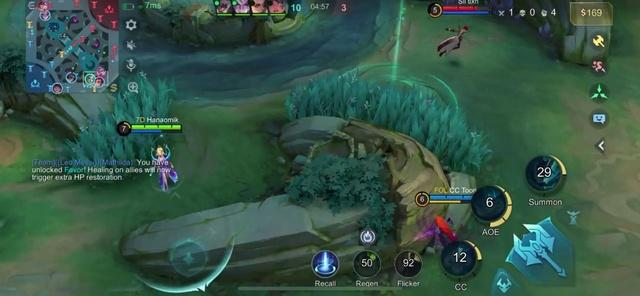Adc_Aliado: (94, 77, 106, 87)
Arbusto: (286, 69, 491, 171), (62, 71, 174, 161)
Energia: (428, 201, 476, 205)
Eudora: (153, 145, 177, 191), (436, 26, 467, 56)
Exp_Aliado: (39, 10, 53, 22)
Exp_Enemigo: (38, 0, 47, 11)
HP_Aliado: (429, 195, 477, 200)
HP_Enemigo: (442, 6, 489, 11)
HP_Heroe_Principal: (133, 126, 181, 131)
Jungla_Aliado: (67, 72, 76, 83)
Lesly: (415, 216, 456, 246)
Mana: (133, 131, 183, 134), (443, 12, 491, 15)
Mid_Aliado: (84, 73, 95, 85)
Mid_Enemigo: (97, 65, 107, 77)
Minimapa: (26, 0, 120, 91)
Roamer_Aliado: (52, 83, 63, 95)
